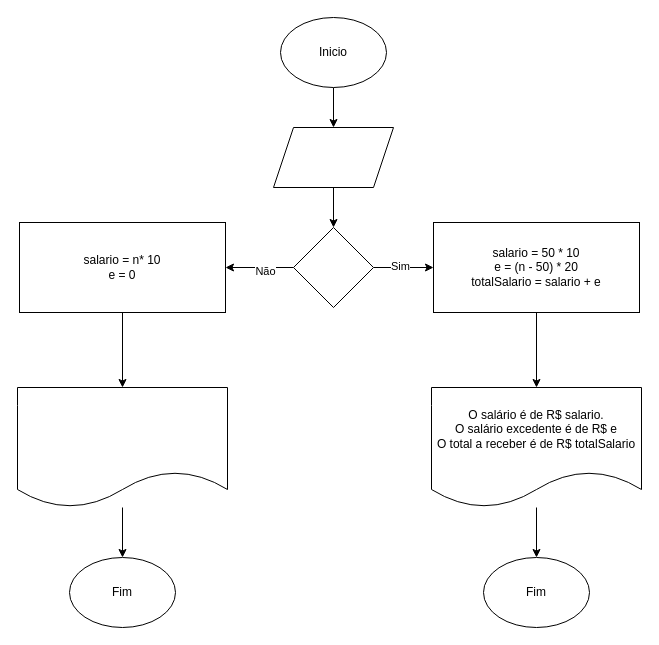
Some shapes in this 659 by 645 pixel diagram are drawn without their labels. Here are the shapes that lost their labels. From the top down, the centre of each, then its label:
the point at 333,157: c, n
the point at 333,267: n> 50
the point at 122,447: O salário é de R$ salario. Não há salario excedente
